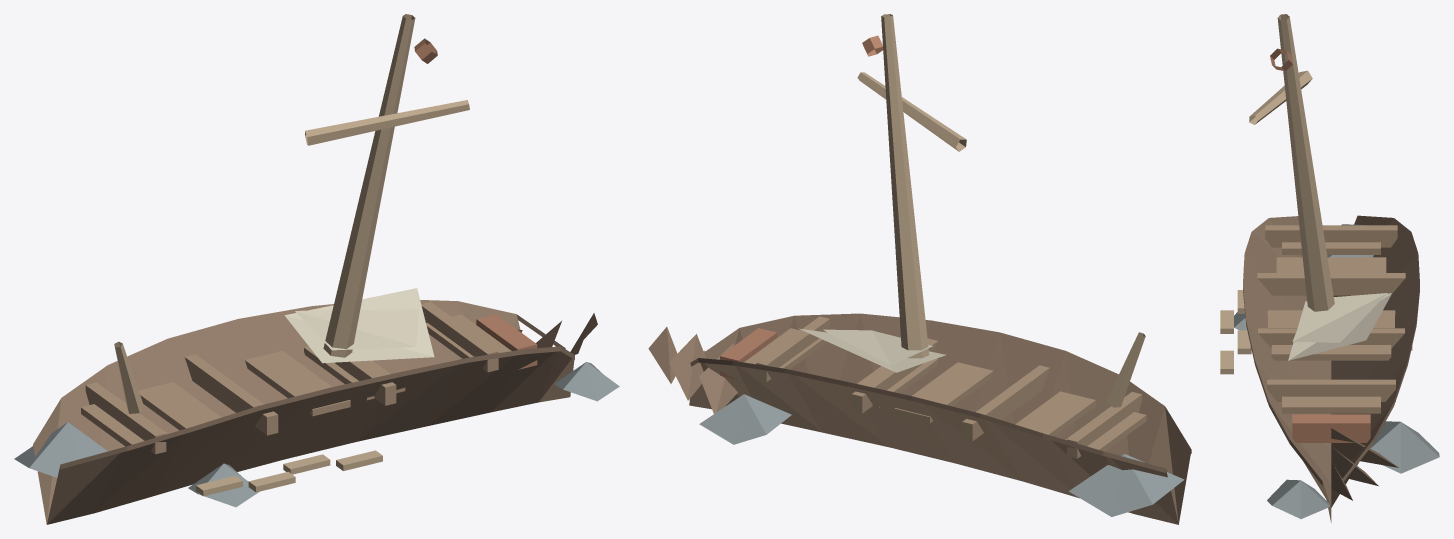
The model's file is ASSET beached-wreck GLB.glb.
The picture shows the model from 3 angles, left to right: view 1: azimuth 30°, elevation 25°; view 2: azimuth 150°, elevation 25°; view 3: azimuth 270°, elevation 25°; orthographic projection. The views are drawn at different scales.
Visible parts, largest first — view 1: beached-wreck; view 2: beached-wreck; view 3: beached-wreck.
Boxes of the visible parts, x1,y1,x2,y2 form: beached-wreck: (14,14,619,524); beached-wreck: (648,14,1191,524); beached-wreck: (1220,14,1439,522).
Bounding box in the file's own units: 7.2 × 5.36 × 2.53.
